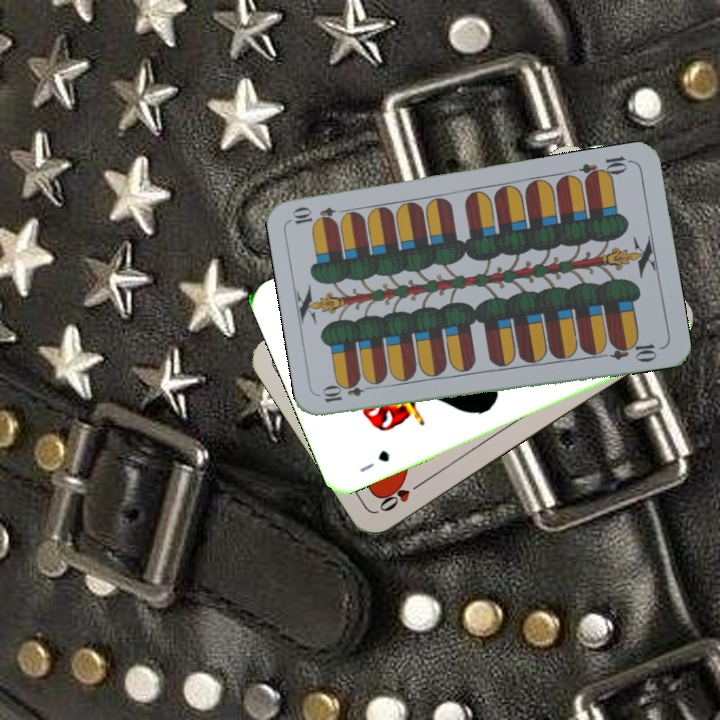E10: (576, 152, 635, 184), (318, 379, 378, 405)
GU: (356, 446, 392, 475)
HO: (375, 476, 427, 515)
